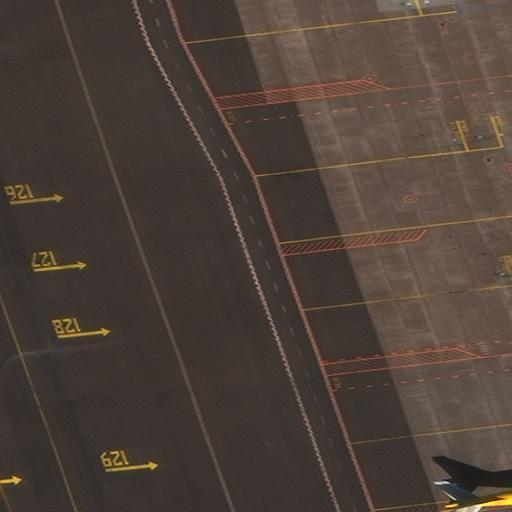Large Civil Transport: (433, 447, 512, 512)
